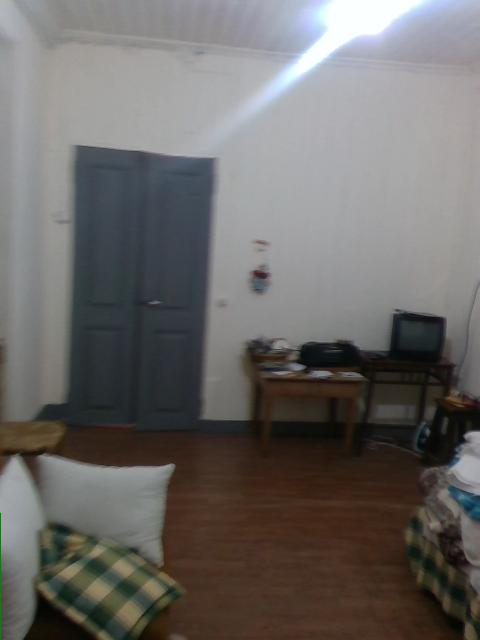door: (70, 144, 217, 428)
